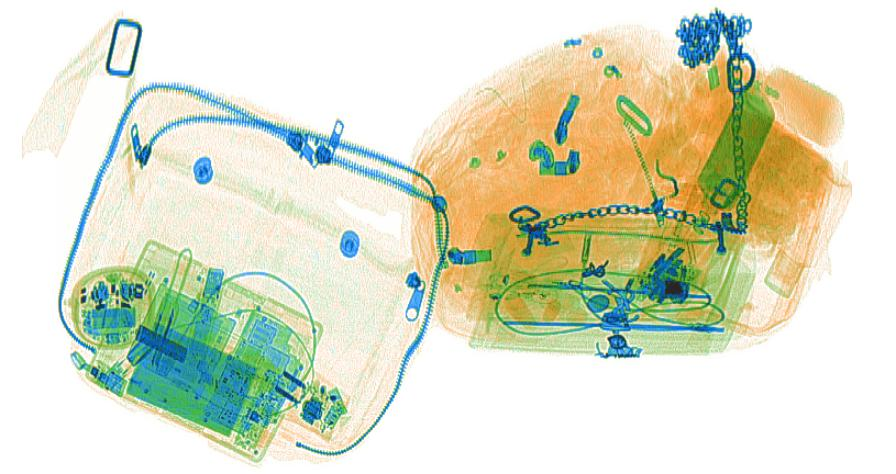USBFlashDisk: (187, 264, 228, 353), (83, 361, 129, 399)
battery: (130, 324, 190, 364)
plasticBottleWithaNozzle: (713, 56, 848, 147)
